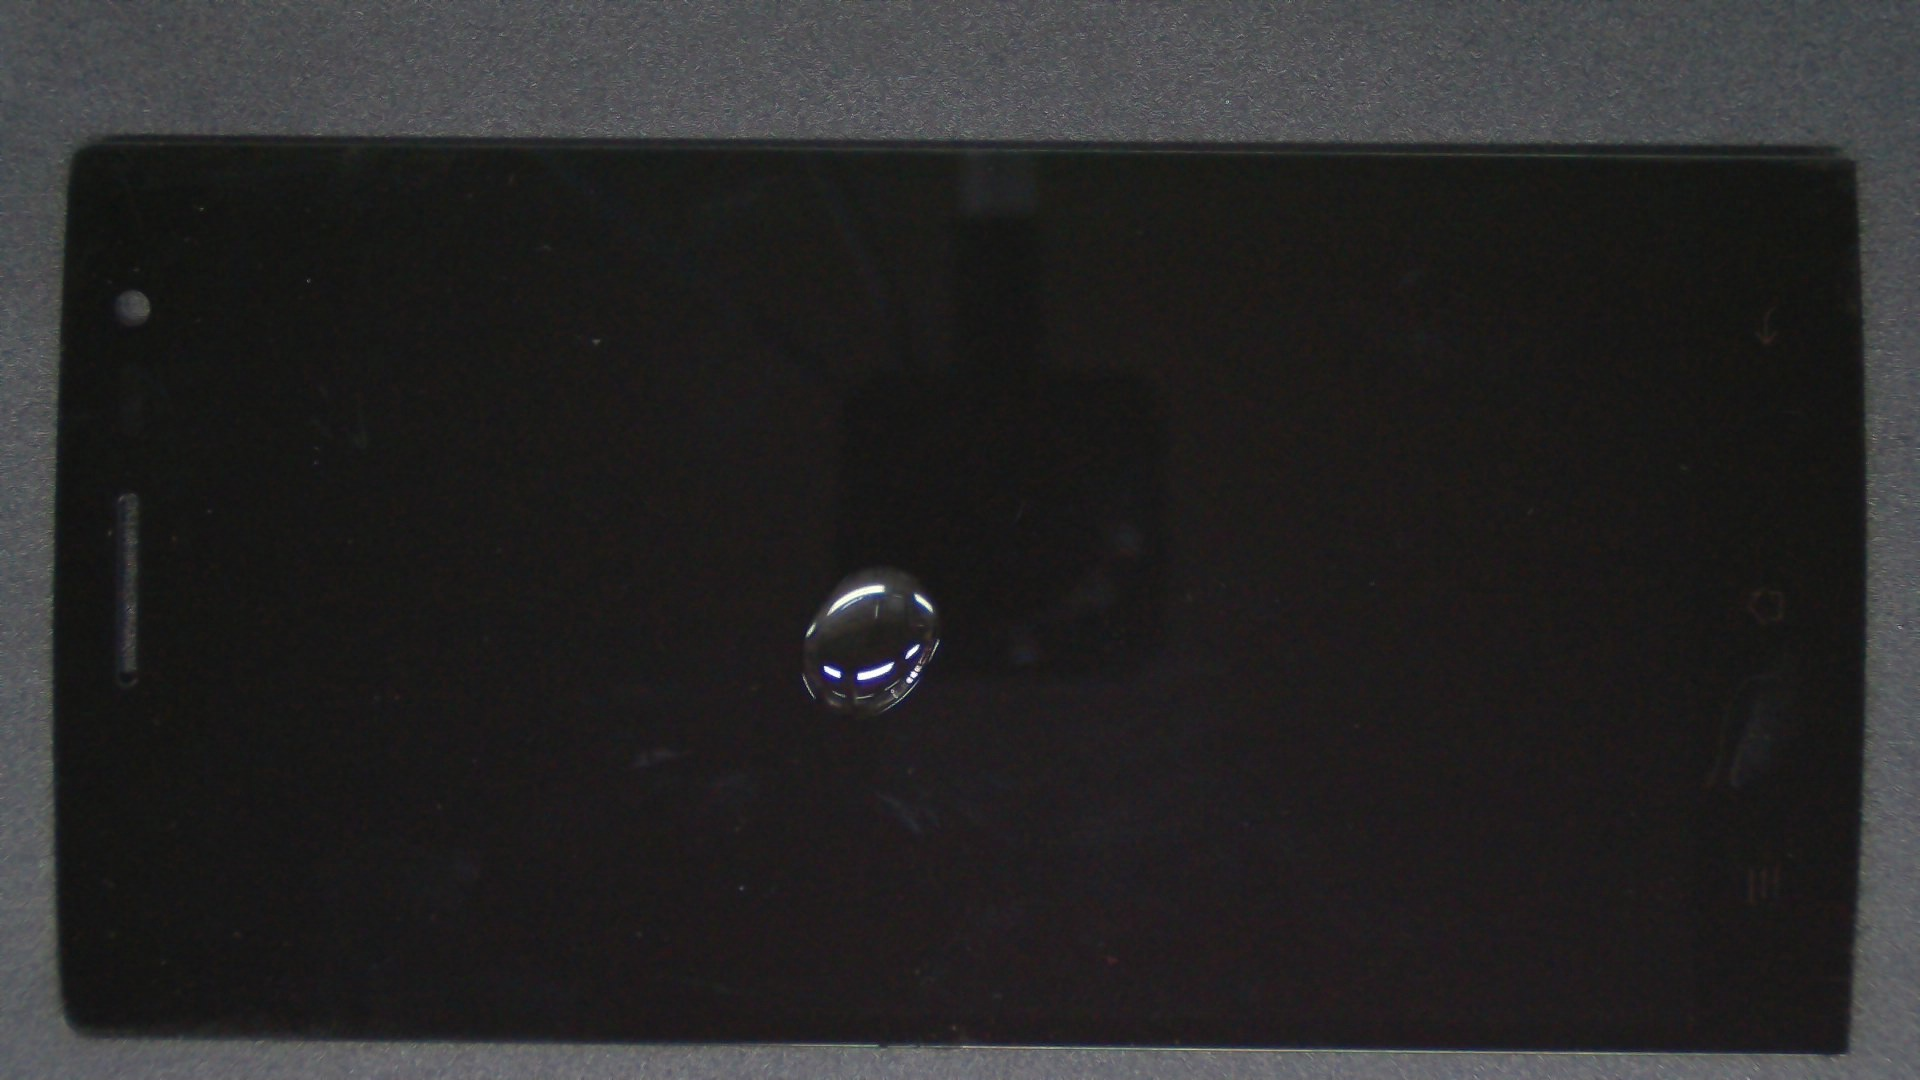oil: (446, 282, 1336, 849)
